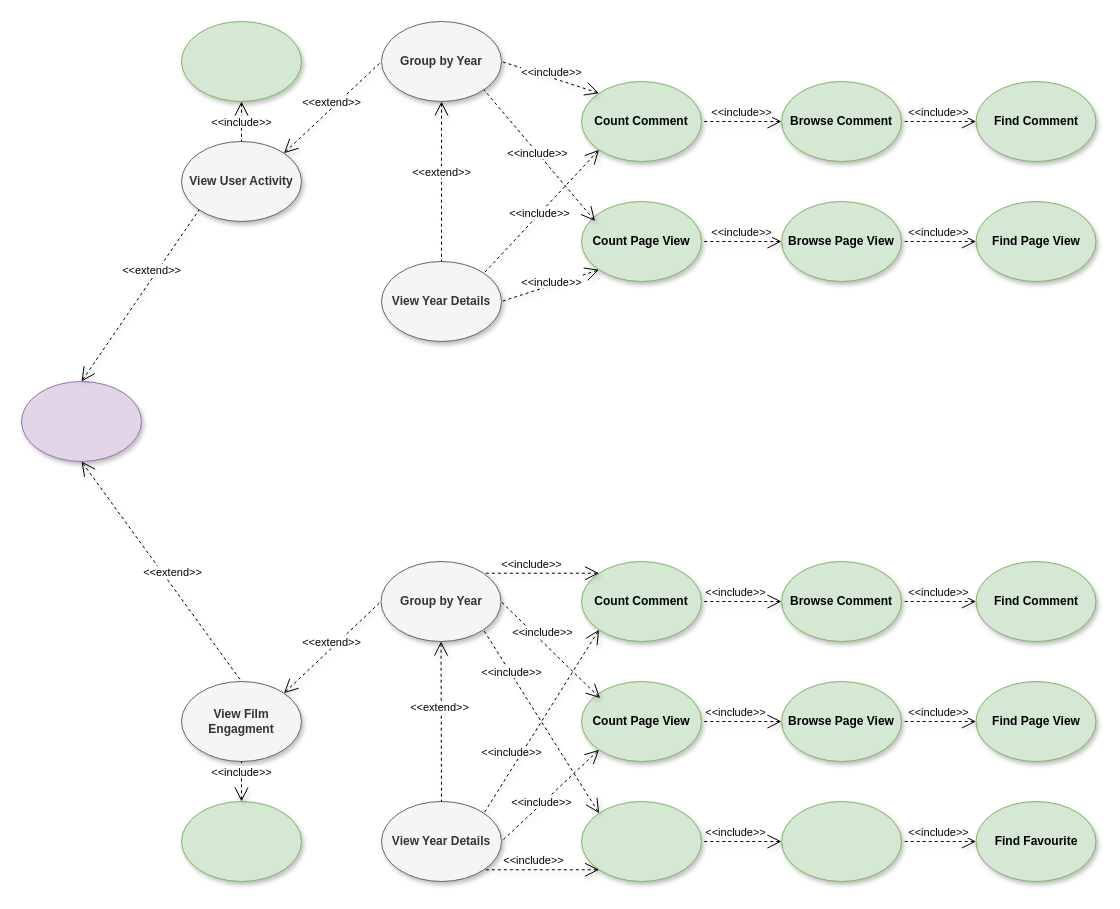
The diagram is 1120 pixels wide and 909 high, and some of its shapes have lost their labels. Each missing label, with the centre of its shape:
Browse Favourite: (842,842)
Count Favourite: (642,842)
Find Film: (242,842)
Find User: (242,62)
View Engagment-Activity: (82,422)
